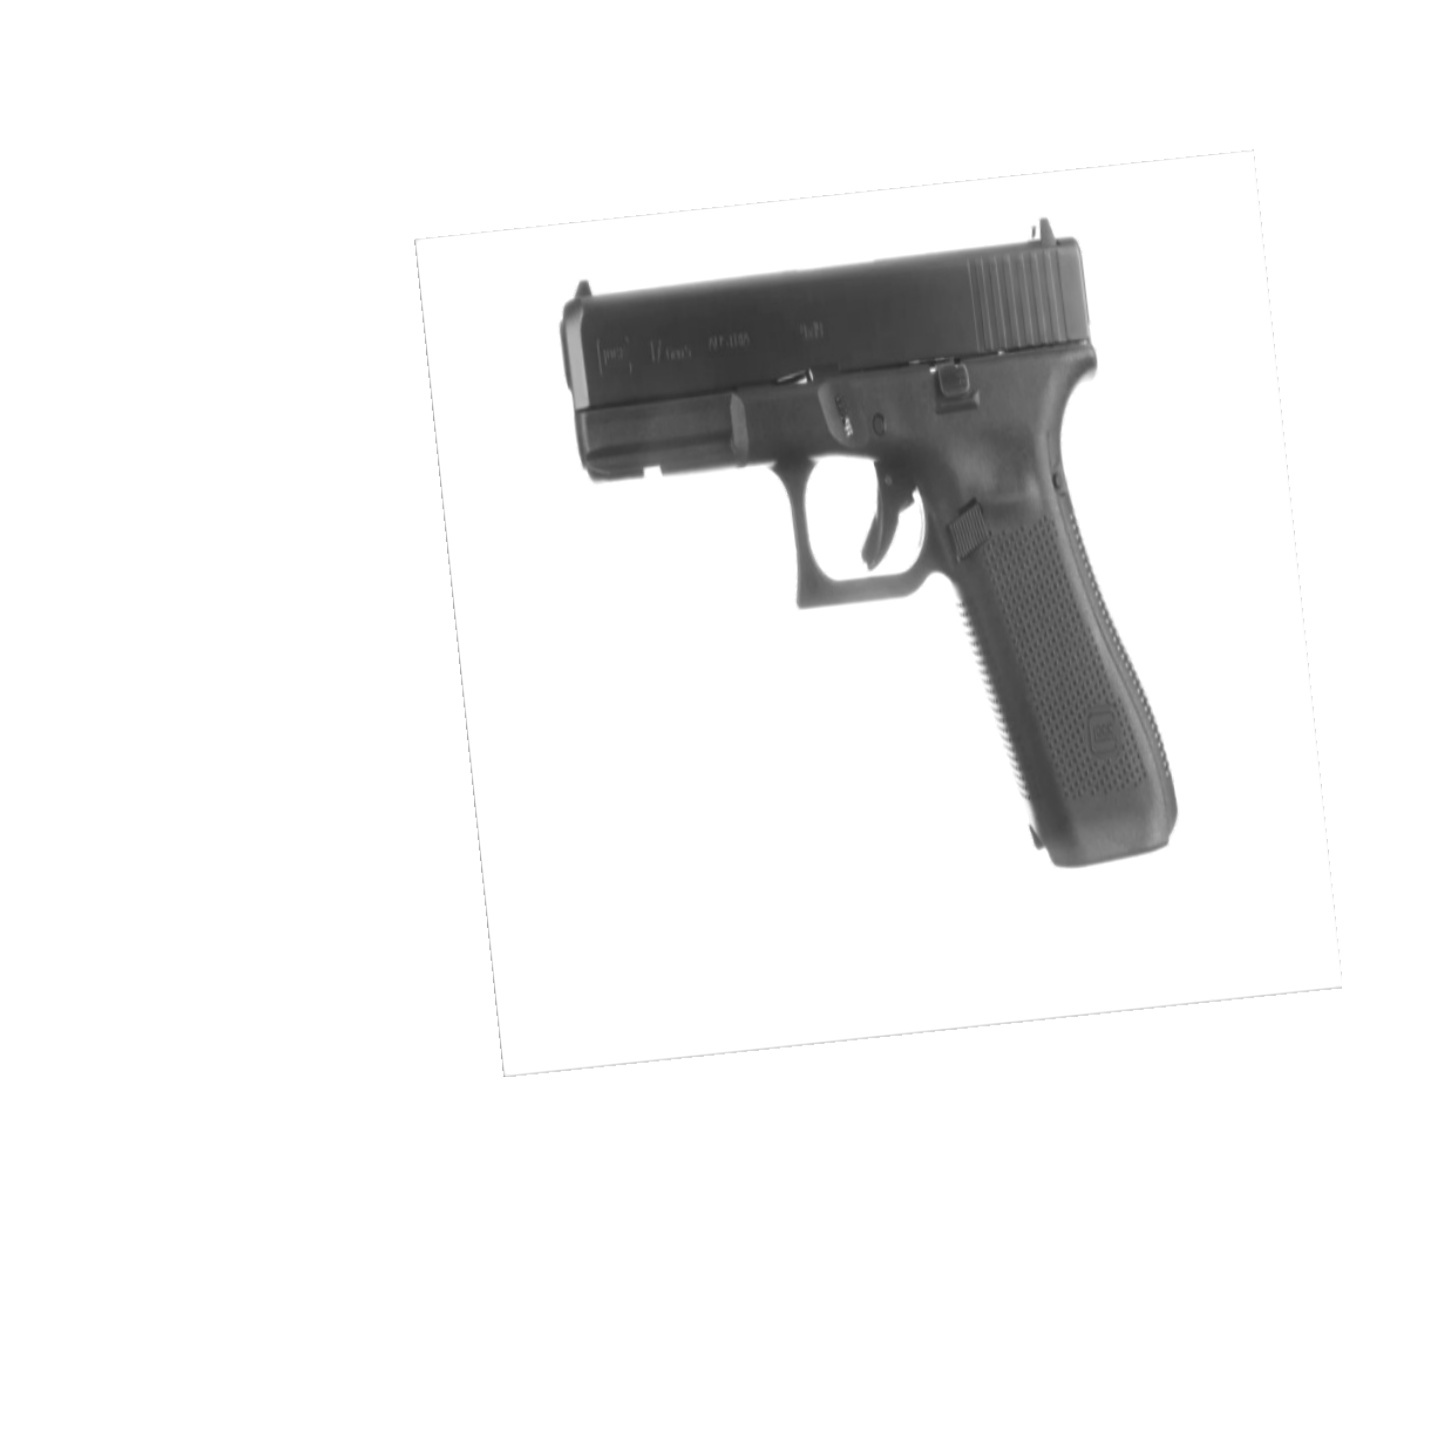gun: (535, 215, 1213, 882)
